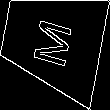M_W: (29, 13, 76, 70)
